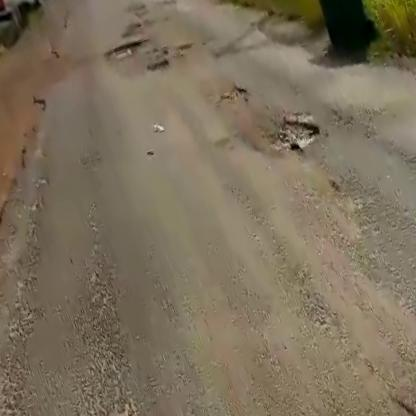pothole: (251, 103, 331, 170), (100, 32, 147, 62), (145, 55, 173, 77)
